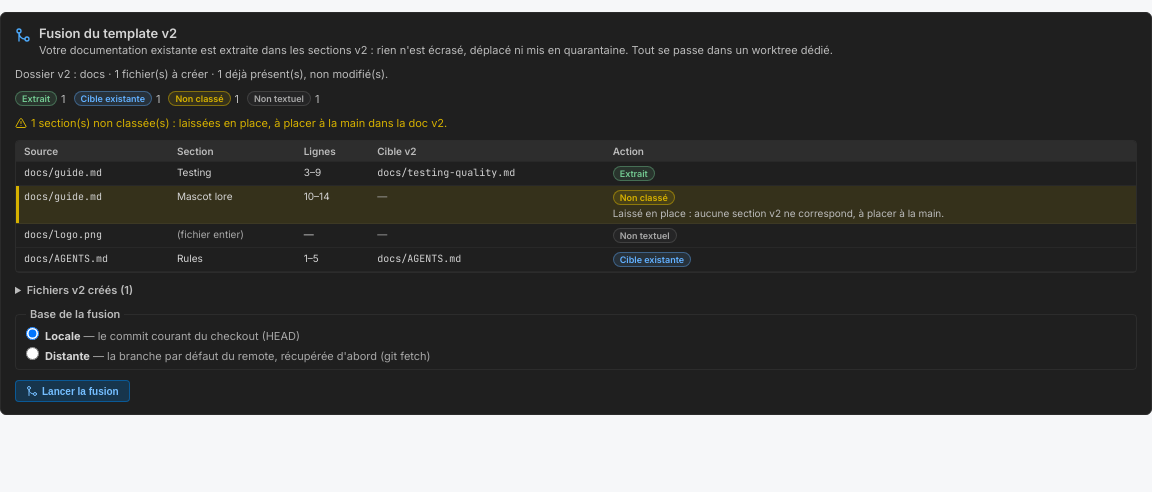
TemplateMergePanel — result › shows one diff per file and accepts only the selected paths
The width and height of the screenshot is (1152, 492).
Click the button with test id "template-merge-launch" at (72, 391), box x1=15 y1=380 x2=130 y2=402
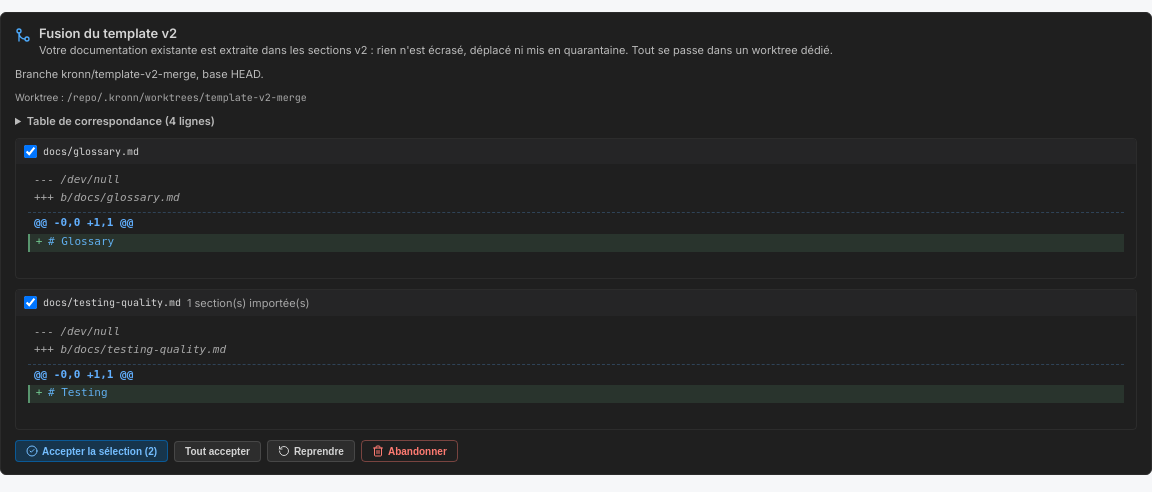
expect the number of elements with test id "template-merge-file" is 2: met, box x1=15 y1=138 x2=1137 y2=278; x1=15 y1=288 x2=1137 y2=430
expect the text "# Glossary" is shown: met, box x1=48 y1=234 x2=114 y2=248
Click the checkbox named "Accepter docs/glossary.md" at (30, 152), box x1=24 y1=145 x2=37 y2=158
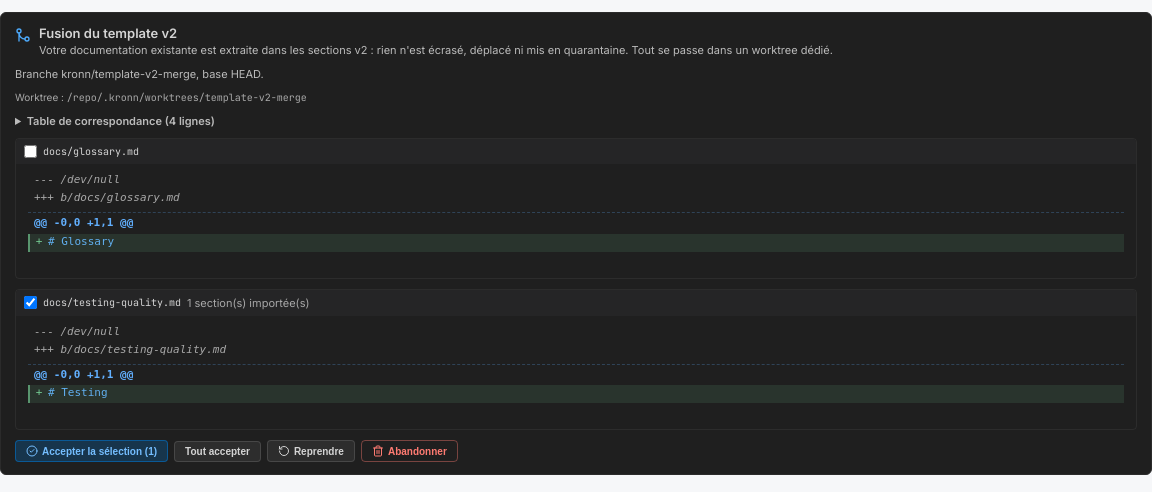
expect the button with test id "template-merge-accept-selected" shows "(1)": met
Click the button with test id "template-merge-accept-selected" at (92, 451), box x1=15 y1=440 x2=168 y2=462
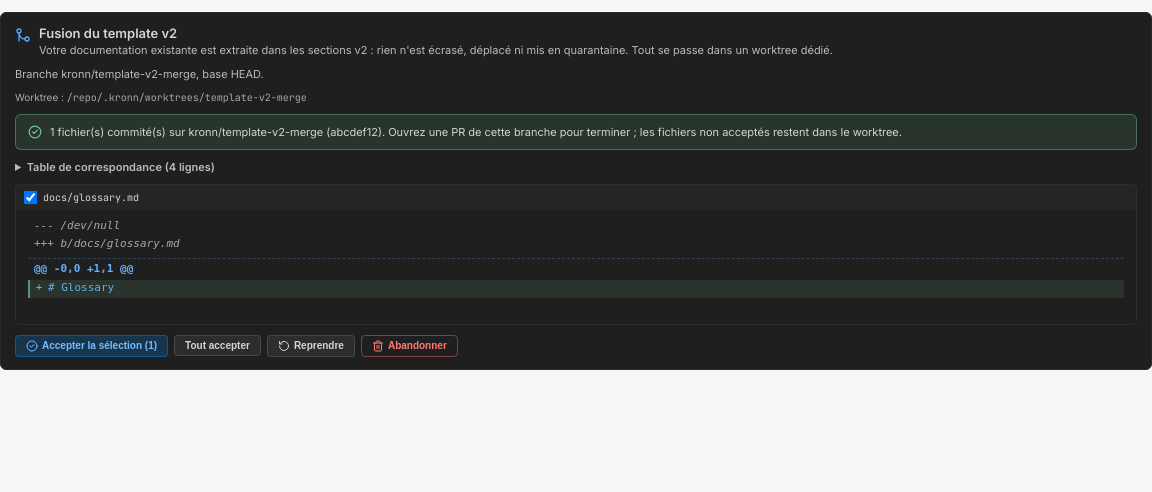
expect the message with test id "template-merge-accepted" is shown: met, box x1=15 y1=114 x2=1137 y2=150
expect the message with test id "template-merge-accepted" shows "1 fichier(s) commité(s) sur kronn/template-v2-merge (abcdef12)": met, box x1=50 y1=125 x2=385 y2=139
expect the number of elements with test id "template-merge-file" is 1: met, box x1=15 y1=184 x2=1137 y2=324
